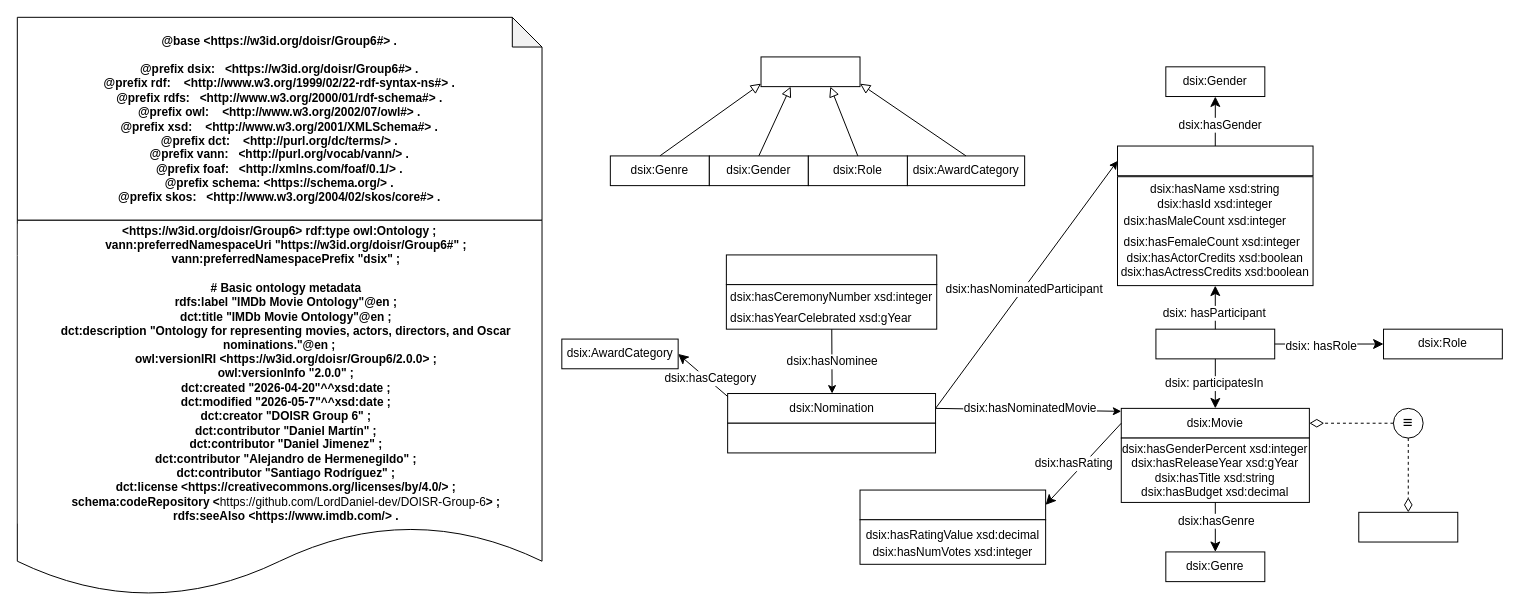
The diagram is 1520 pixels wide and 614 high, and some of its shapes have lost their labels. Here are the shapes that lost their labels. From the top down, the box of each, then its label:
(760, 56, 860, 87): skos:Concept
(1117, 145, 1313, 176): dsix:Participant
(725, 254, 937, 285): dsix:Ceremony
(1155, 328, 1275, 359): dsix:Participation
(727, 422, 936, 453): dsix:isWinner xsd:boolean
(859, 489, 1046, 520): dsix:Rating
(1358, 511, 1458, 542): schema:Movie
